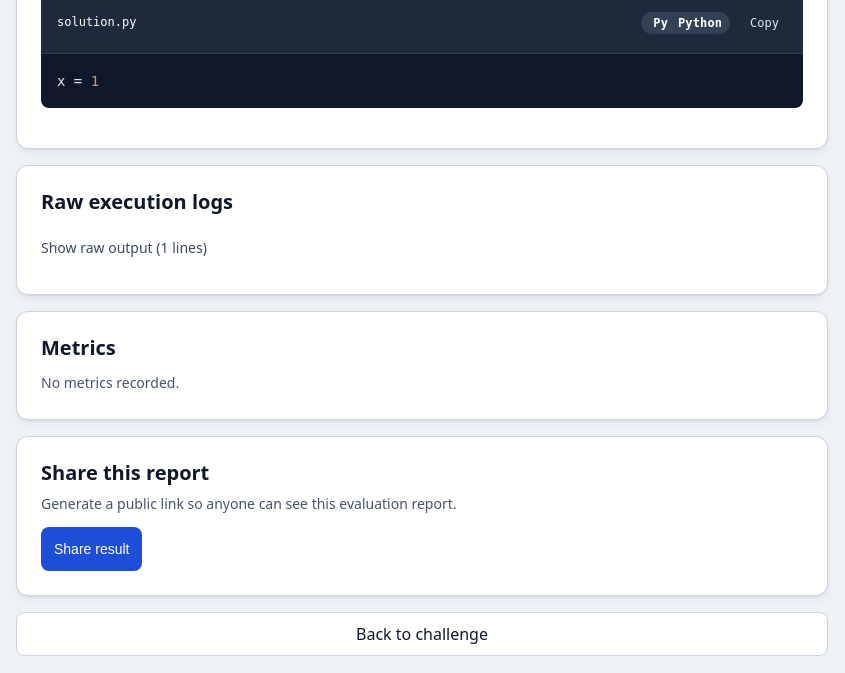
SubmissionDetail › revokes a shared link
(page scrolled)
Click the button "Share result".
click(92, 549)  # box x1=41 y1=527 x2=142 y2=571
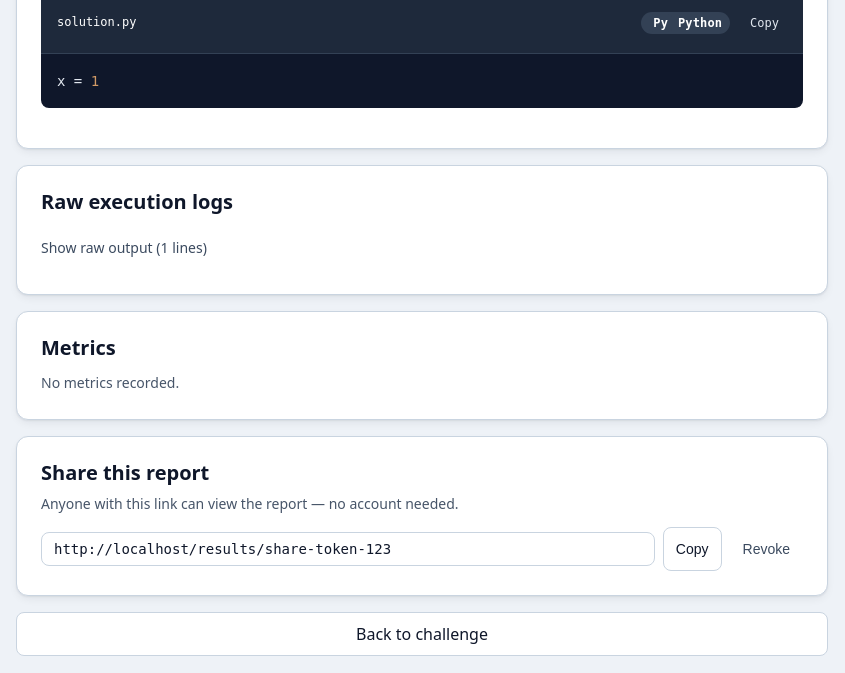
expect the field named "Shareable result URL" is shown: met, box x1=41 y1=532 x2=655 y2=566
Click the button "Revoke".
click(766, 549)  # box x1=730 y1=527 x2=803 y2=571
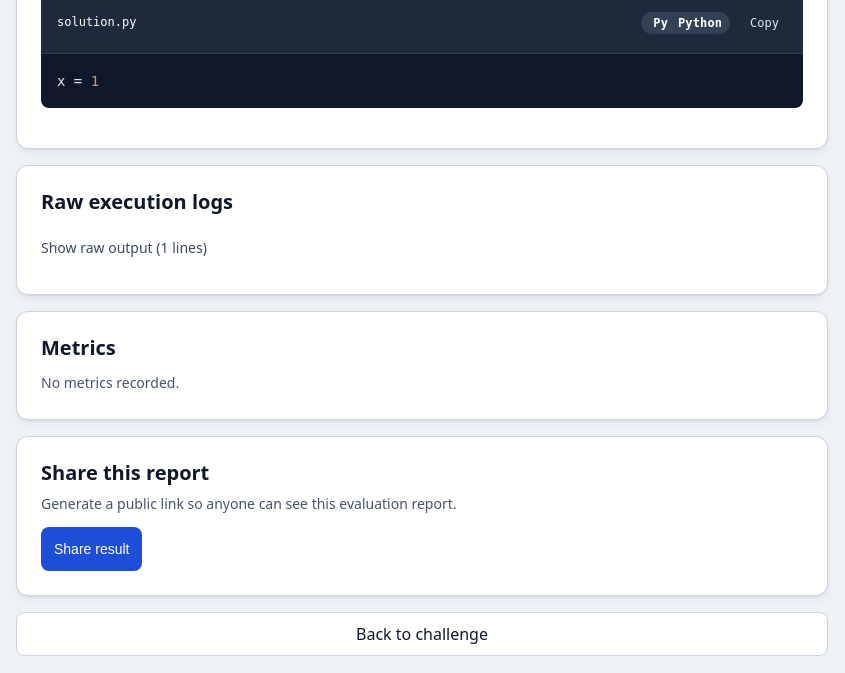
expect the button "Share result" is shown: met, box x1=41 y1=527 x2=142 y2=571
